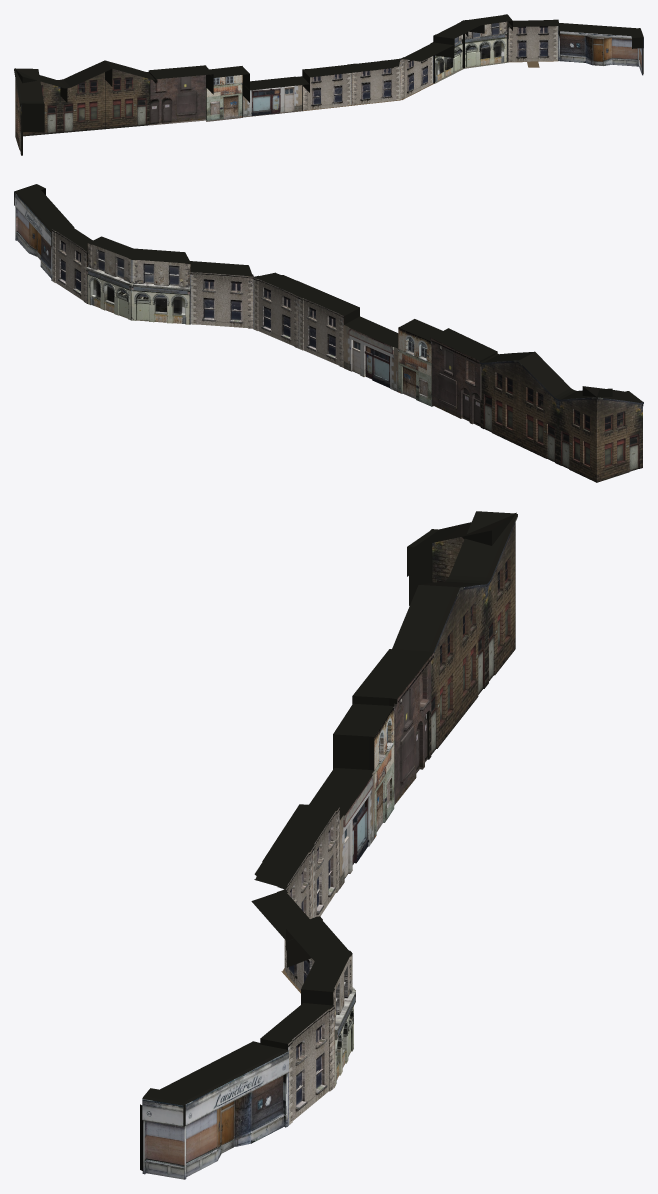
Rendered from apartments2.fbx.
3 renders of one model, top to bottom at view 1: azimuth 30°, elevation 25°; view 2: azimuth 150°, elevation 25°; view 3: azimuth 270°, elevation 25°, orthographic. The views are drawn at different scales.
Visible parts, largest first — view 1: apartments.004; view 2: apartments.004; view 3: apartments.004.
Part boxes in pixels (x1,y1,x2,y2): apartments.004: [14, 14, 643, 155]; apartments.004: [14, 184, 643, 482]; apartments.004: [140, 511, 517, 1179].
Size of the model in its own units: 8371 by 990 by 2453.
